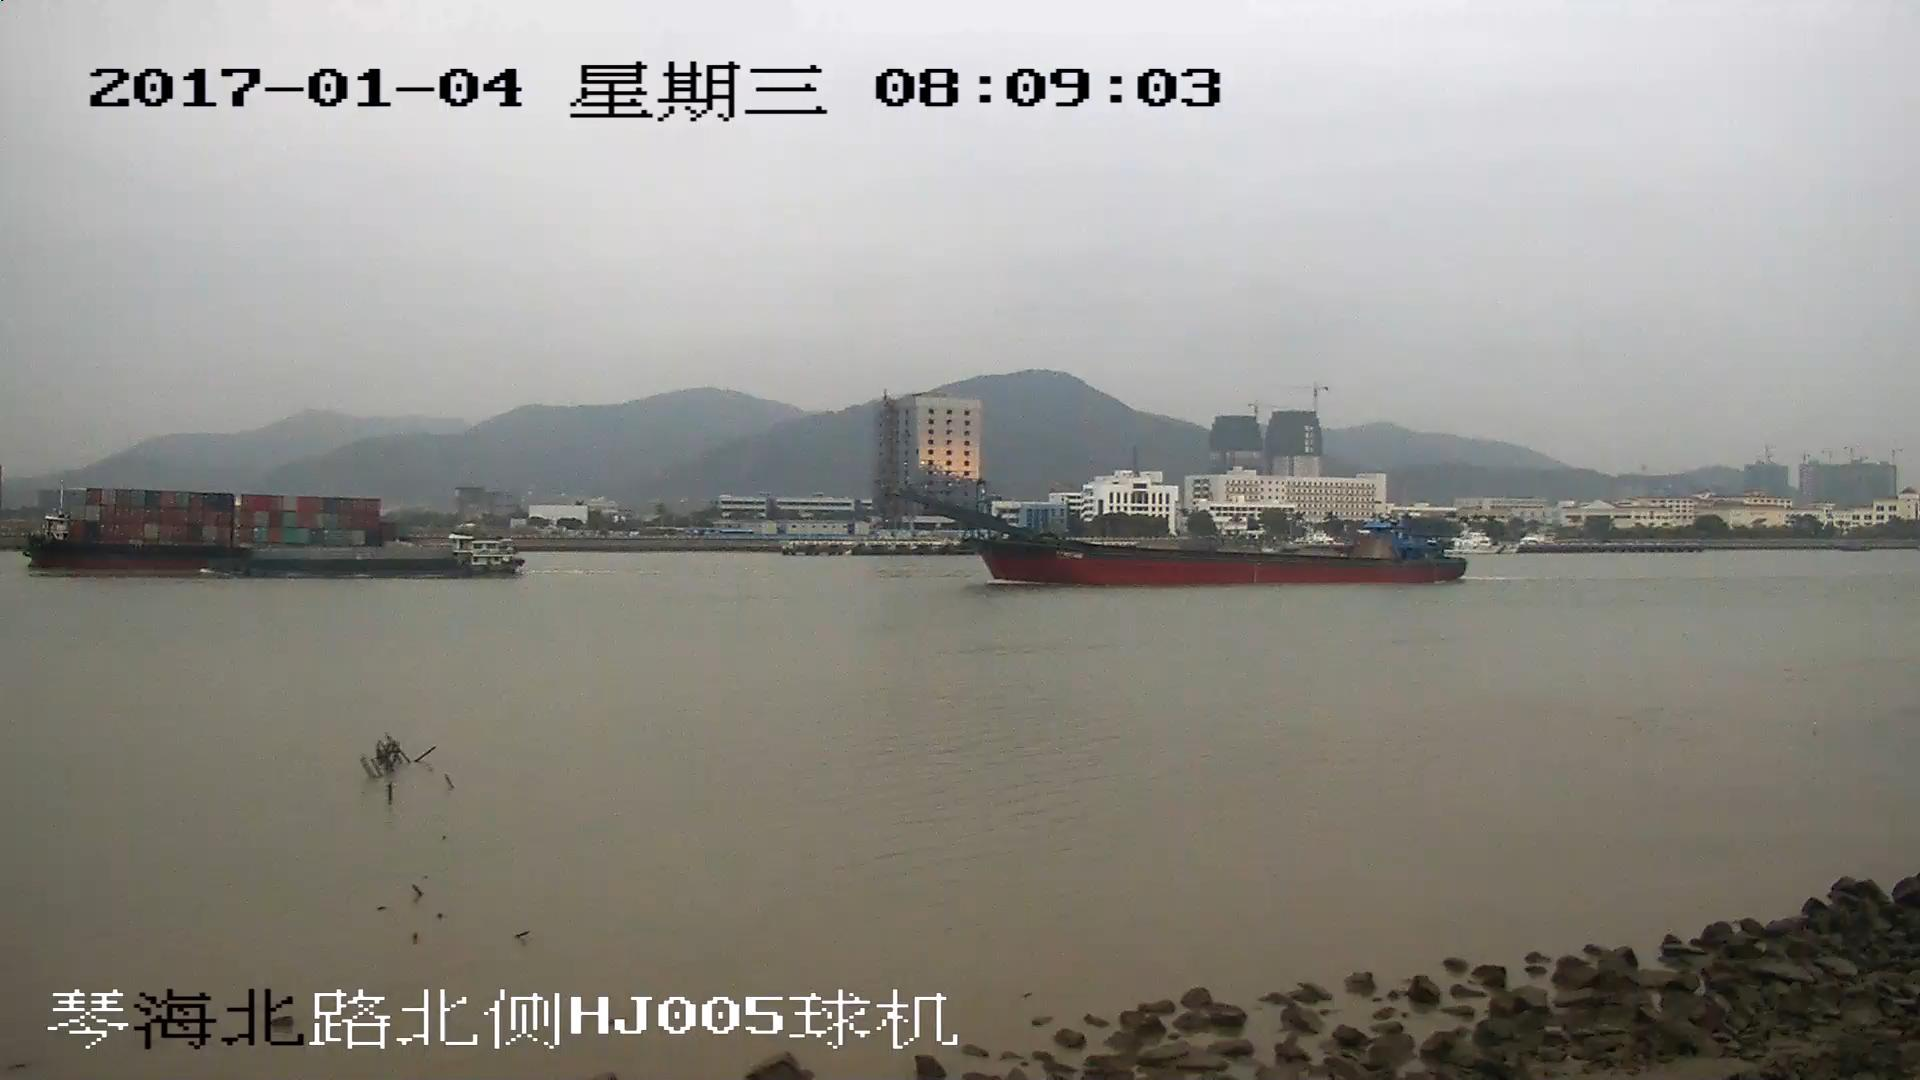Ship: (901, 491, 1466, 585), (24, 488, 531, 576)
